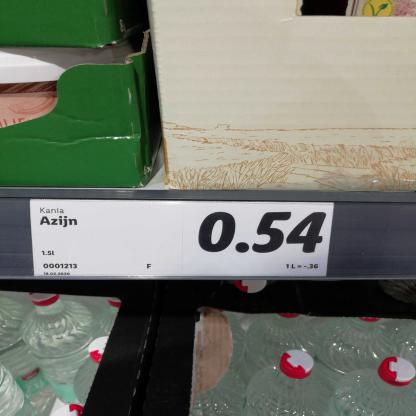prtg: (30, 200, 335, 278)
